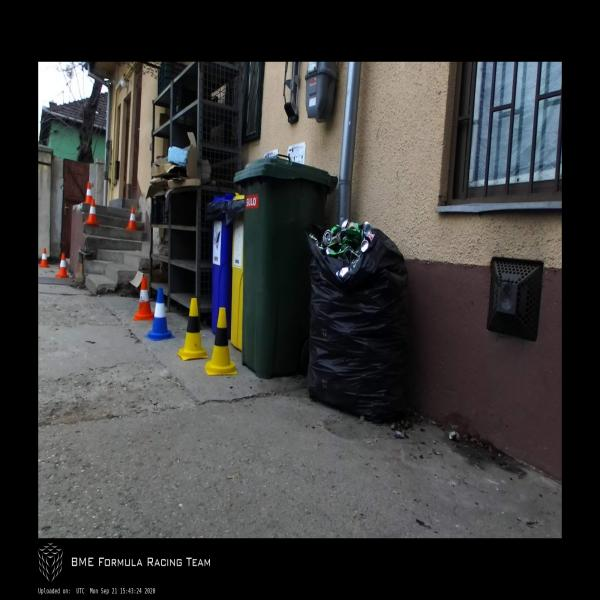blue_cone: (145, 288, 174, 340)
orange_cone: (132, 276, 154, 320), (85, 199, 99, 225), (56, 253, 68, 278), (126, 207, 138, 231), (39, 248, 50, 267), (85, 182, 92, 204)
yellow_cone: (205, 307, 237, 375), (177, 299, 208, 360)
